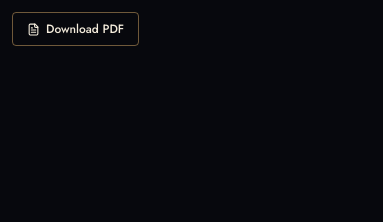
Test case: Ticket C-UI · DownloadPdfButton › 403 → honest 'no access' message
Click the button with test id "health-pdf-download-btn" at x=76, y=29, box [12, 12, 139, 46]
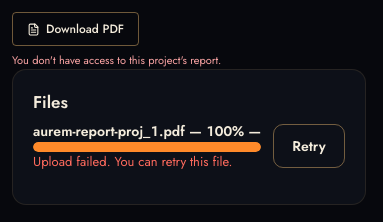
Result: the text "don.t have access" is shown at [12, 52, 221, 68]
